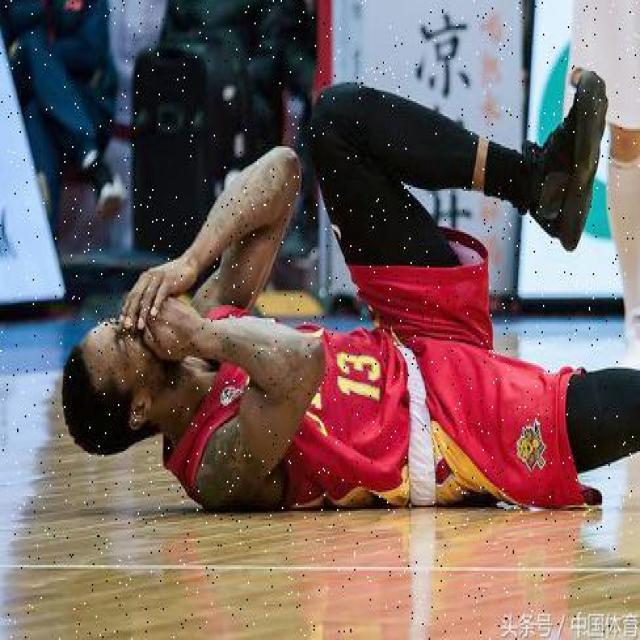fall: (63, 70, 639, 514)
